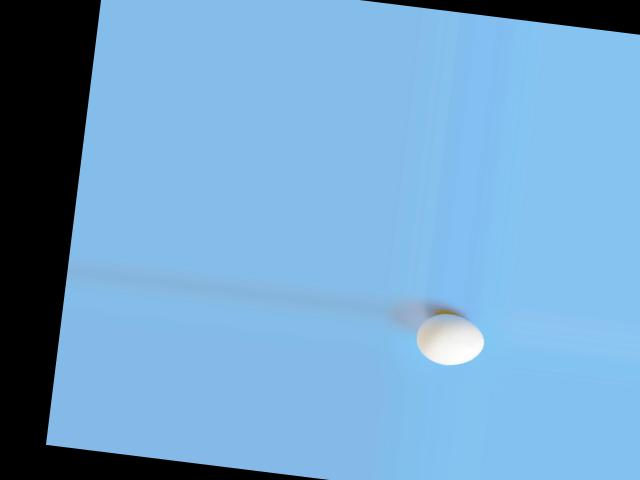egg: (412, 309, 487, 368)
